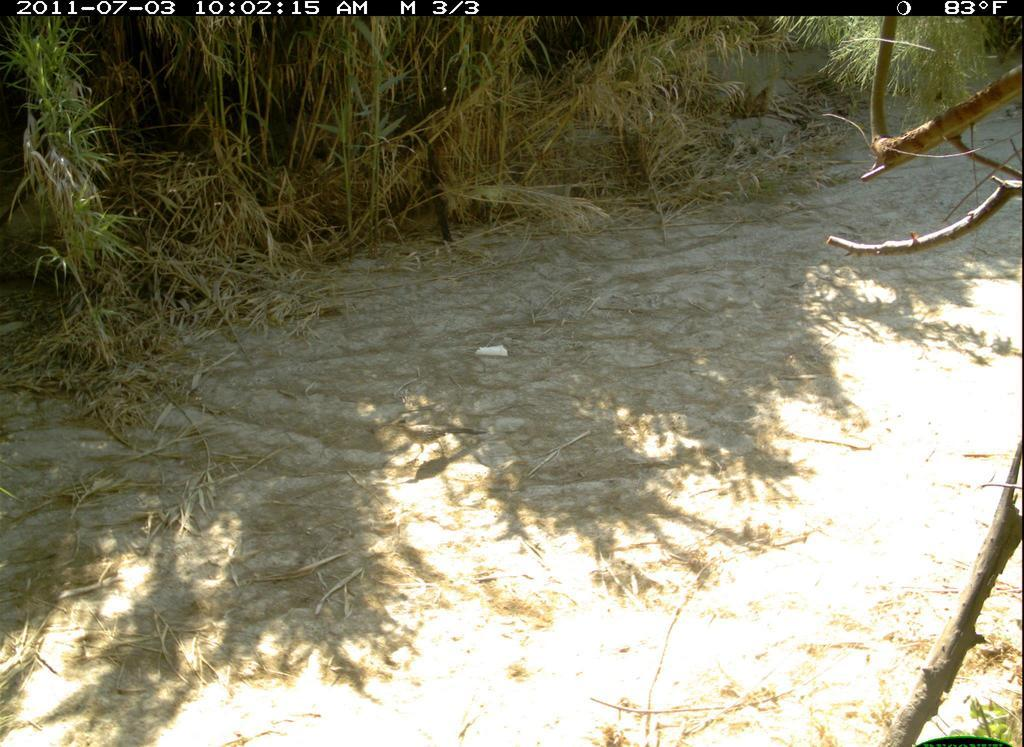bird: (385, 413, 489, 470)
